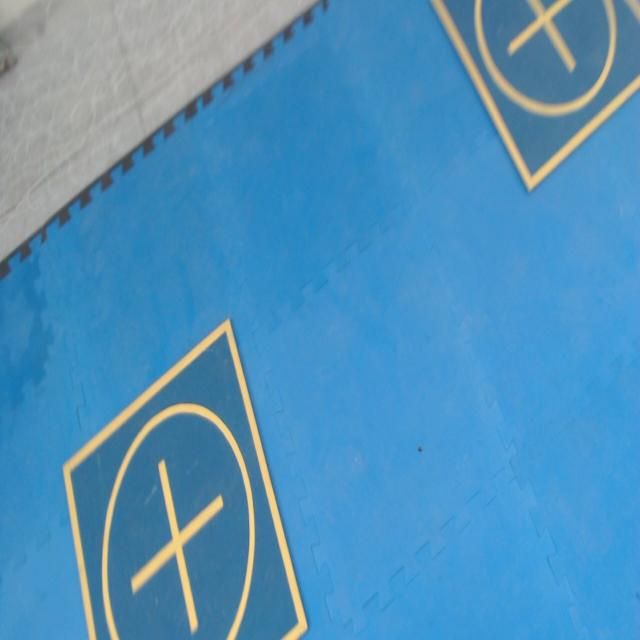base_pouso: (64, 316, 310, 639), (429, 0, 640, 196)
